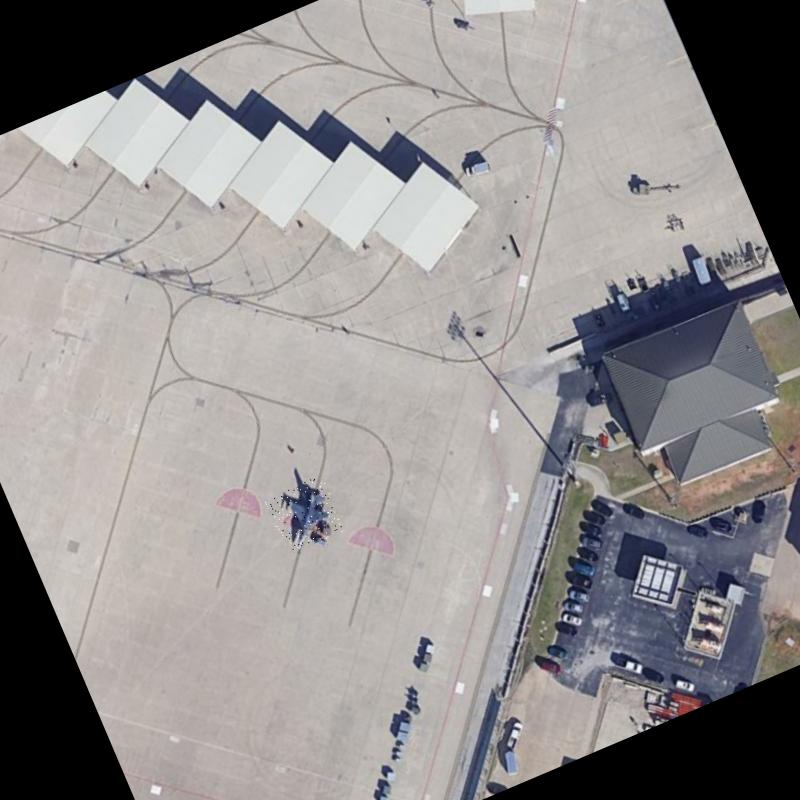A5: (264, 474, 346, 556)
